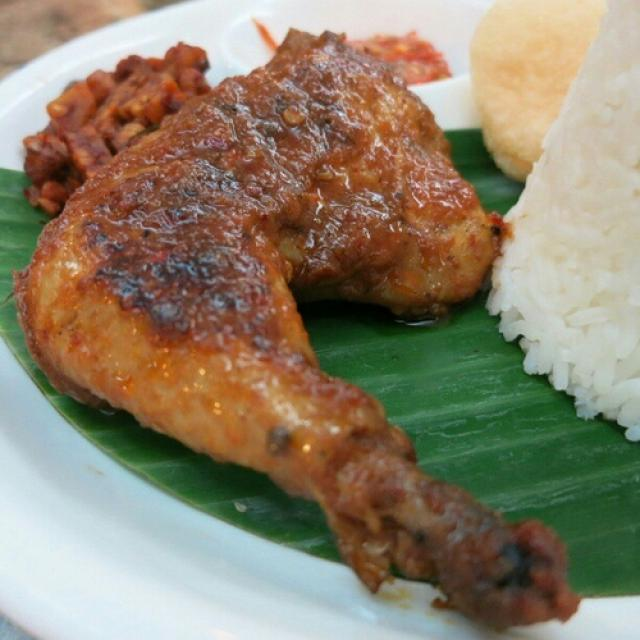鸡肉料理 含炸鸡: (16, 23, 592, 623)
